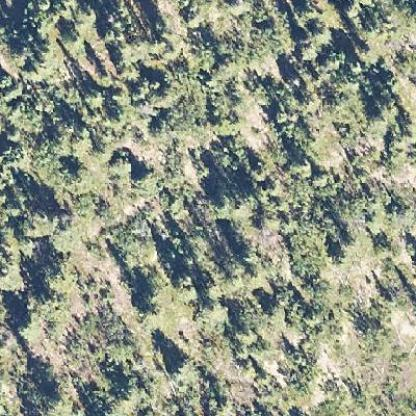tree-top: (220, 292, 270, 336), (132, 168, 160, 198), (100, 156, 132, 180), (60, 30, 88, 56)
